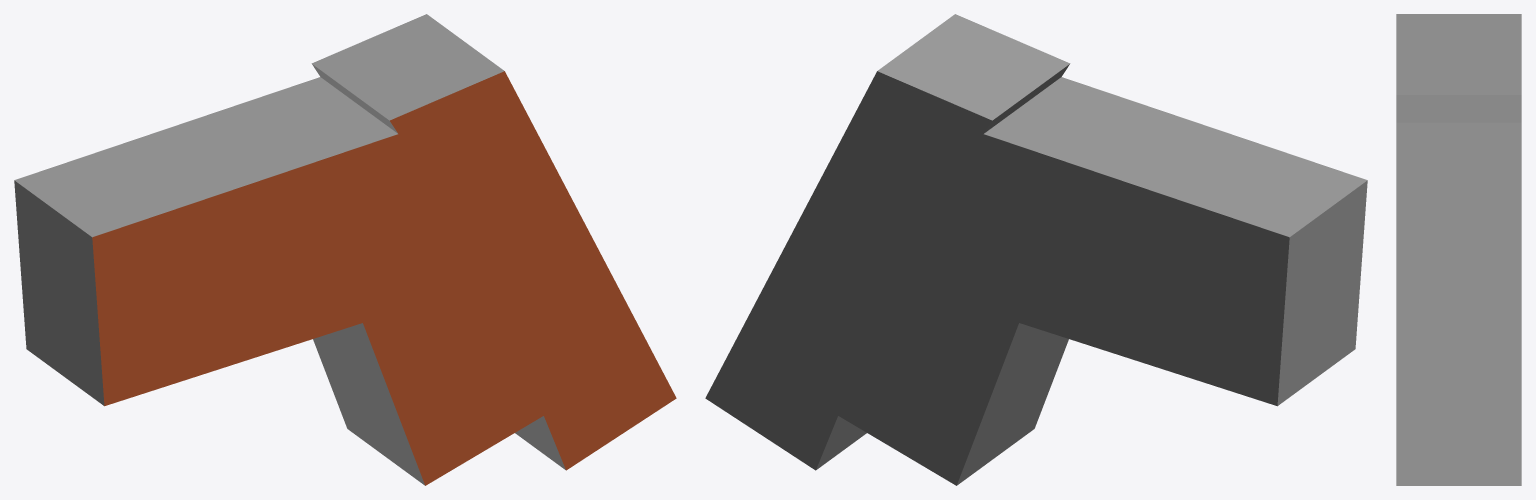
File: construction_1803_assumed_A_Casa_h6m.obj
3 views of the same model, side by side, from view 1: azimuth 30°, elevation 25°; view 2: azimuth 150°, elevation 25°; view 3: azimuth 270°, elevation 25° (orthographic). The views are drawn at different scales.
Visible parts, largest first — view 1: construction_1803_assumed_A_Casa; view 2: construction_1803_assumed_A_Casa; view 3: construction_1803_assumed_A_Casa.
Boxes of the visible parts, x1,y1,x2,y2 form: construction_1803_assumed_A_Casa: (14, 14, 676, 485); construction_1803_assumed_A_Casa: (705, 14, 1367, 485); construction_1803_assumed_A_Casa: (1396, 14, 1521, 485).
Size of the model in its own units: 25.95 by 17.58 by 6.
